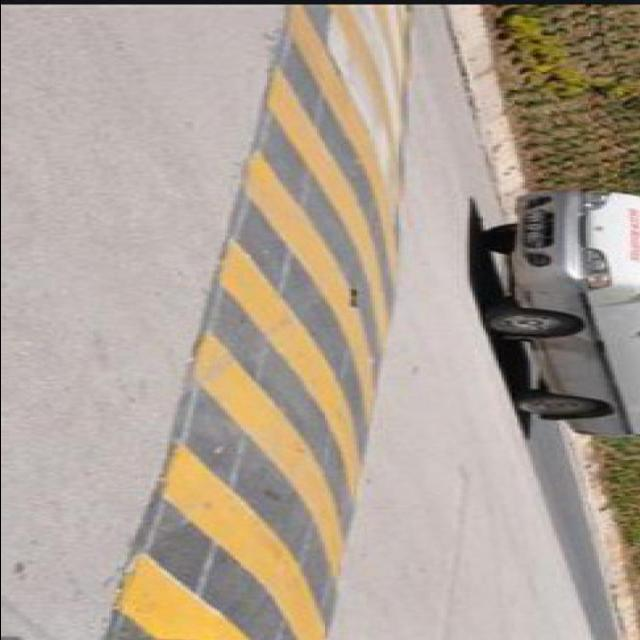speedbreaker: (97, 0, 427, 640)
